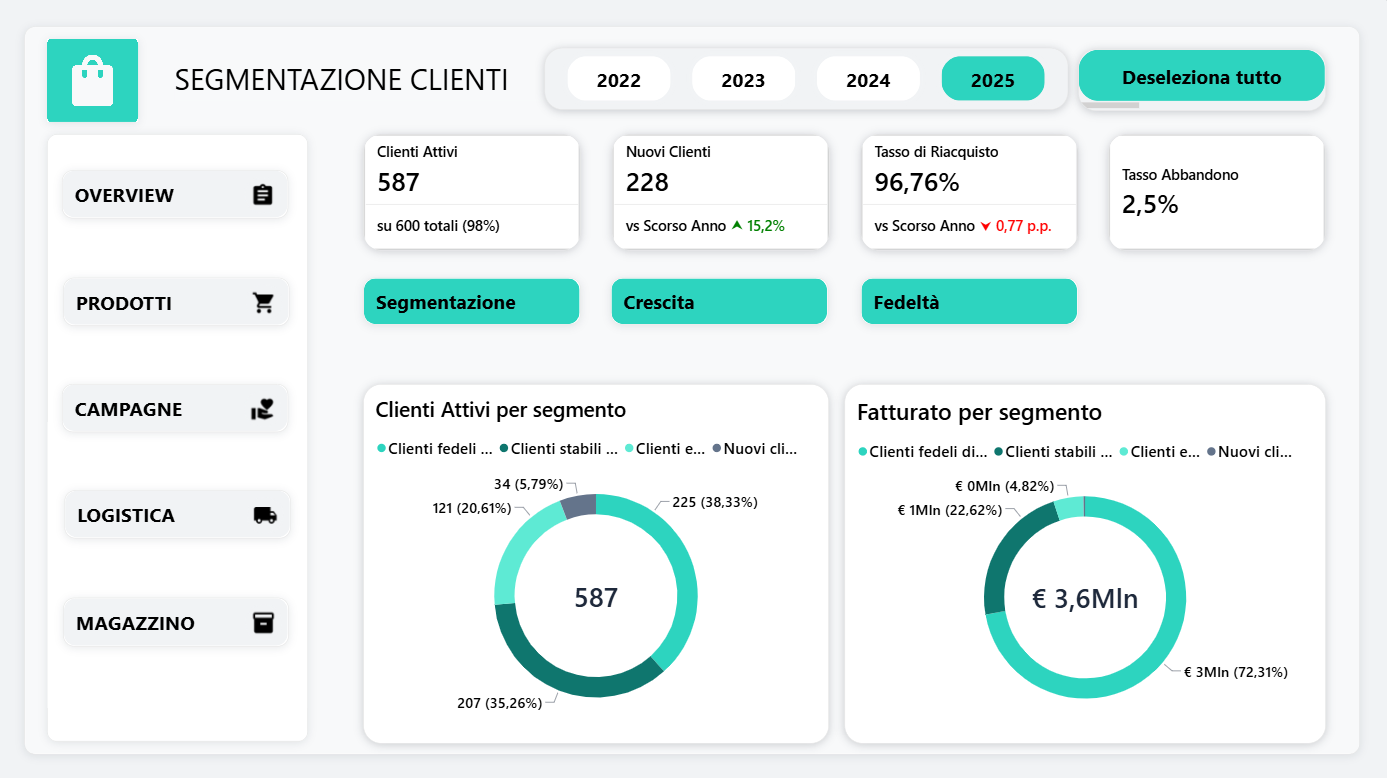

Layout of this report page (visuals, bound fields, positions):
{"tool":"powerbi","page":{"name":"Clienti","canvas":[1920,1080],"ordinal":1},"visuals":[{"type":"shape","box":[38.2,38.2,1841.8,1003.6],"z":0},{"type":"shape","box":[69.1,185.5,360,838.2],"z":1000},{"type":"actionButton","box":[89.1,236.4,312,66],"z":2000},{"type":"actionButton","box":[91.5,383.6,312,66],"z":3000},{"type":"actionButton","box":[90.3,530.9,312,66],"z":4000},{"type":"actionButton","box":[92.7,678.2,312,66],"z":5000},{"type":"actionButton","box":[91.5,825.5,310.9,67.3],"z":6000},{"type":"image","box":[69.1,54.5,125.5,114.5],"z":7000},{"type":"textbox","title":"SEGMENTAZIONE CLIENTI","box":[244,83.2,821.6,57.9],"z":8000},{"type":"cardVisual","fields":{"Data":["gold dim_clienti.Clienti Attivi"]},"box":[504.9,185.8,300,161.1],"z":9000},{"type":"cardVisual","fields":{"Data":["gold dim_clienti.Nuovi Clienti"]},"box":[847.7,185.9,300,161.1],"z":10000},{"type":"advancedSlicerVisual","fields":{"Values":["Data.Anno"]},"box":[755.2,68,722.1,85.5],"z":11000},{"type":"cardVisual","fields":{"Data":["gold dim_clienti.Tasso Abbandono"]},"box":[1533.3,186,300,161.1],"z":12000},{"type":"donutChart","fields":{"Category":["gold dim_clienti.segmento"],"Y":["gold fact_vendite.Fatturato"]},"box":[1169,530.2,664.1,495.8],"z":13000},{"type":"donutChart","fields":{"Category":["gold dim_clienti.segmento"],"Y":["gold dim_clienti.Clienti Attivi"]},"box":[504.9,530.2,642.4,495.8],"z":14000},{"type":"cardVisual","fields":{"Data":["gold dim_clienti.Tasso di Riacquisto"]},"box":[1190.5,185.9,300,161.1],"z":15000},{"type":"advancedSlicerVisual","fields":{"Values":["gold dim_clienti.zona"]},"box":[1491.2,68.8,341.9,85.5],"z":16000},{"type":"actionButton","box":[504.9,383.6,299.8,65.2],"z":17000},{"type":"actionButton","box":[846.9,383.6,299.8,65.2],"z":18000},{"type":"actionButton","box":[1190.8,383.6,299.8,65.2],"z":19000}]}

Visuals, with their boxes in screenshot pixels (x1, y1, x2, y2), scaled from the page's 1920x1080 canvas onto the 1387x778 screenshot:
shape: select_region(28, 28, 1358, 750)
shape: select_region(50, 134, 310, 737)
actionButton: select_region(64, 170, 290, 218)
actionButton: select_region(66, 276, 291, 324)
actionButton: select_region(65, 382, 291, 430)
actionButton: select_region(67, 489, 292, 536)
actionButton: select_region(66, 595, 291, 643)
image: select_region(50, 39, 141, 122)
"SEGMENTAZIONE CLIENTI" textbox: select_region(176, 60, 770, 102)
cardVisual - gold dim_clienti.Clienti Attivi: select_region(365, 134, 581, 250)
cardVisual - gold dim_clienti.Nuovi Clienti: select_region(612, 134, 829, 250)
advancedSlicerVisual - Data.Anno: select_region(546, 49, 1067, 111)
cardVisual - gold dim_clienti.Tasso Abbandono: select_region(1108, 134, 1324, 250)
donutChart - gold dim_clienti.segmento x gold fact_vendite.Fatturato: select_region(844, 382, 1324, 739)
donutChart - gold dim_clienti.segmento x gold dim_clienti.Clienti Attivi: select_region(365, 382, 829, 739)
cardVisual - gold dim_clienti.Tasso di Riacquisto: select_region(860, 134, 1077, 250)
advancedSlicerVisual - gold dim_clienti.zona: select_region(1077, 50, 1324, 111)
actionButton: select_region(365, 276, 581, 323)
actionButton: select_region(612, 276, 828, 323)
actionButton: select_region(860, 276, 1077, 323)
